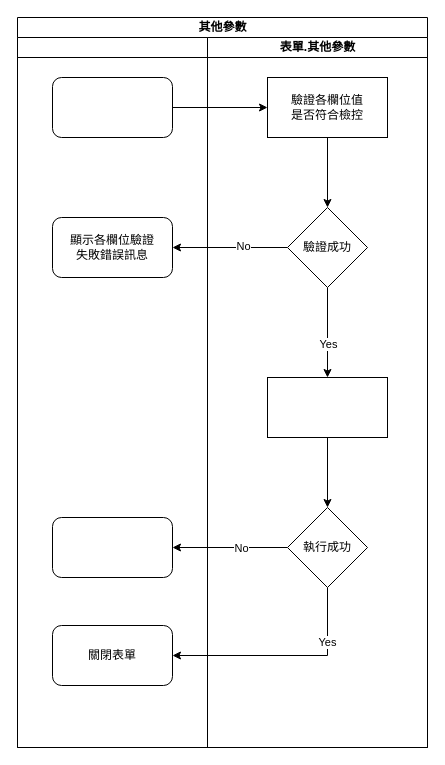
Image size: 445x765. Some labels were removed from this diagram. Here are the shapes that lost their labels. From the top down, the box of each, then its label:
(52, 76, 172, 138): 點擊按鈕.儲存
(16, 36, 208, 748): 管理者
(266, 376, 388, 438): 儲存設定並 將參數生效
(52, 516, 172, 578): 顯示執行 失敗錯誤訊息
